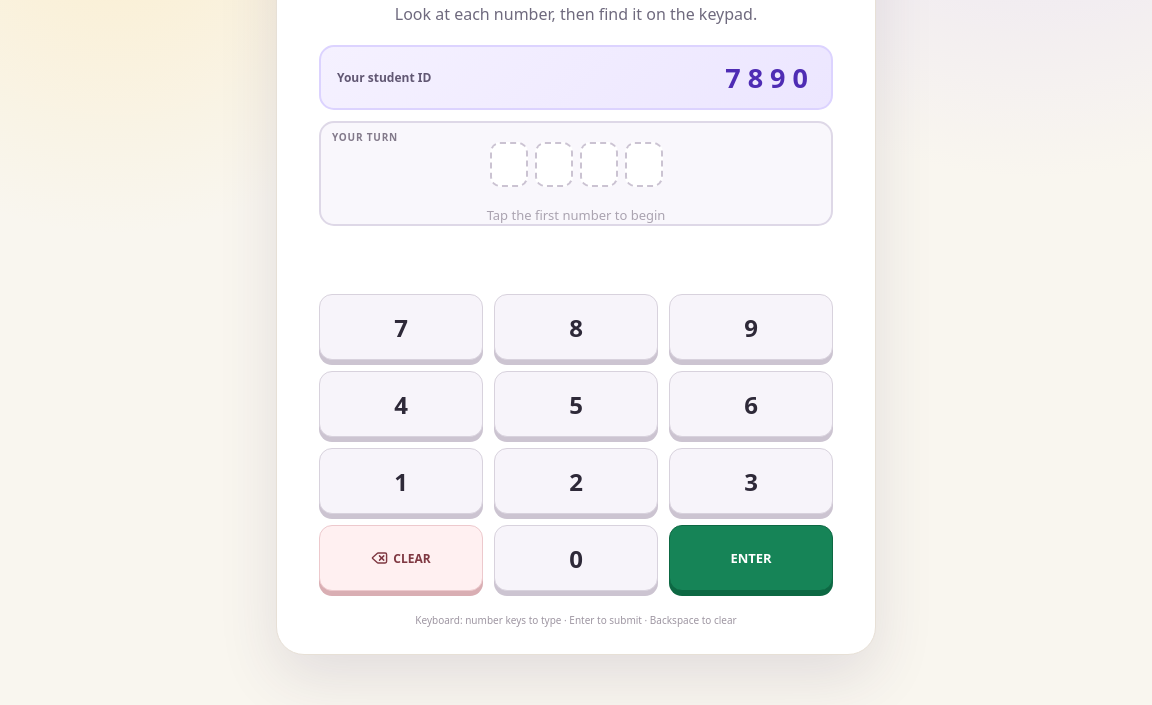
it: Student ID game mechanics › keeps an incorrect attempt visible for guided clearing without persisting it
(page scrolled)
Click the button named "Number 1".
click(401, 481)  # box left=319, top=448, right=483, bottom=514
(page scrolled)
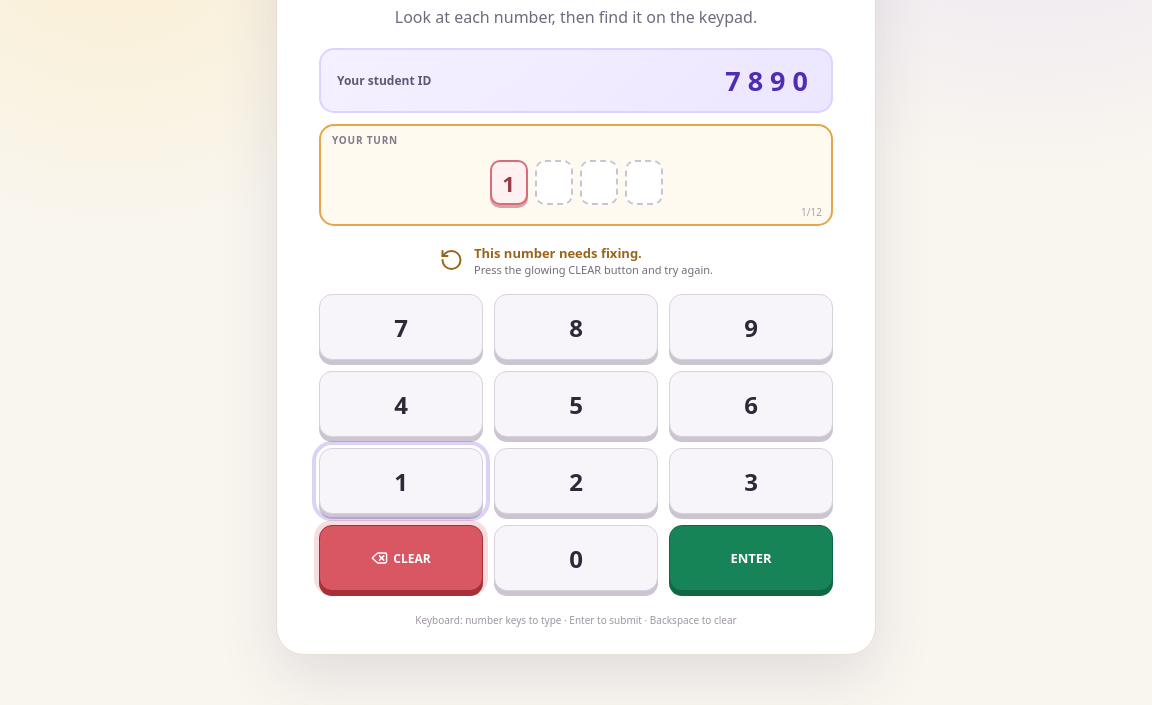
Click the button "2".
click(576, 481)  # box left=494, top=448, right=658, bottom=514
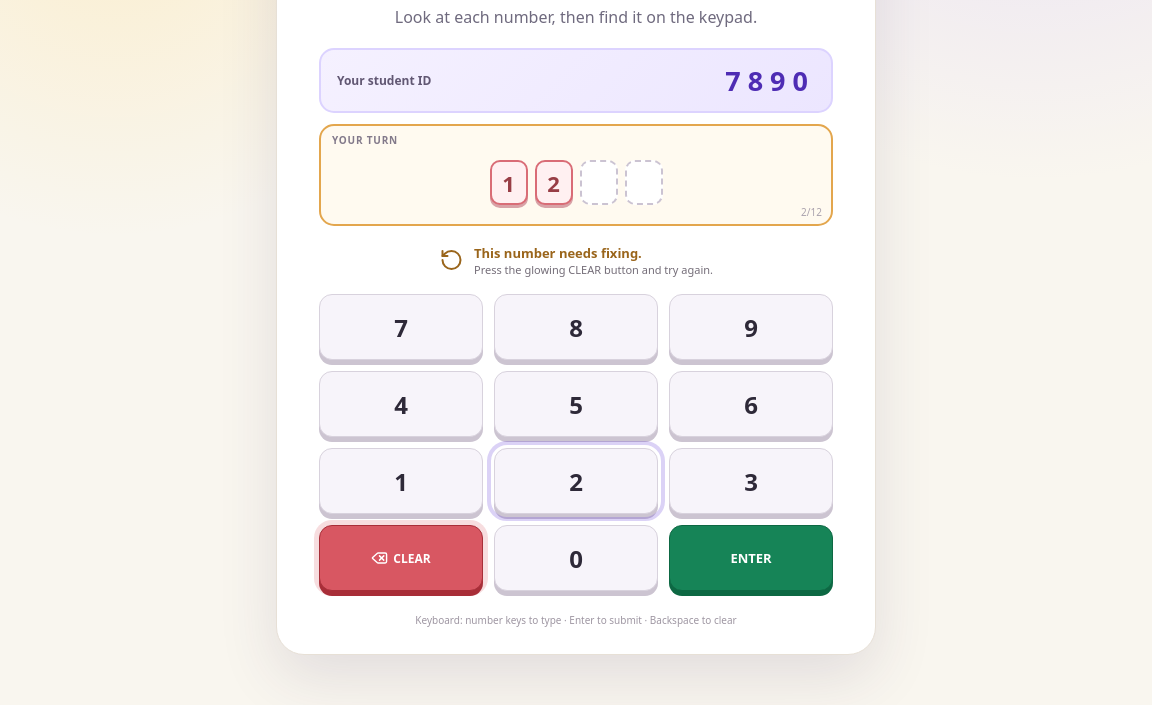
Click the button "3".
click(751, 481)  # box left=669, top=448, right=833, bottom=514
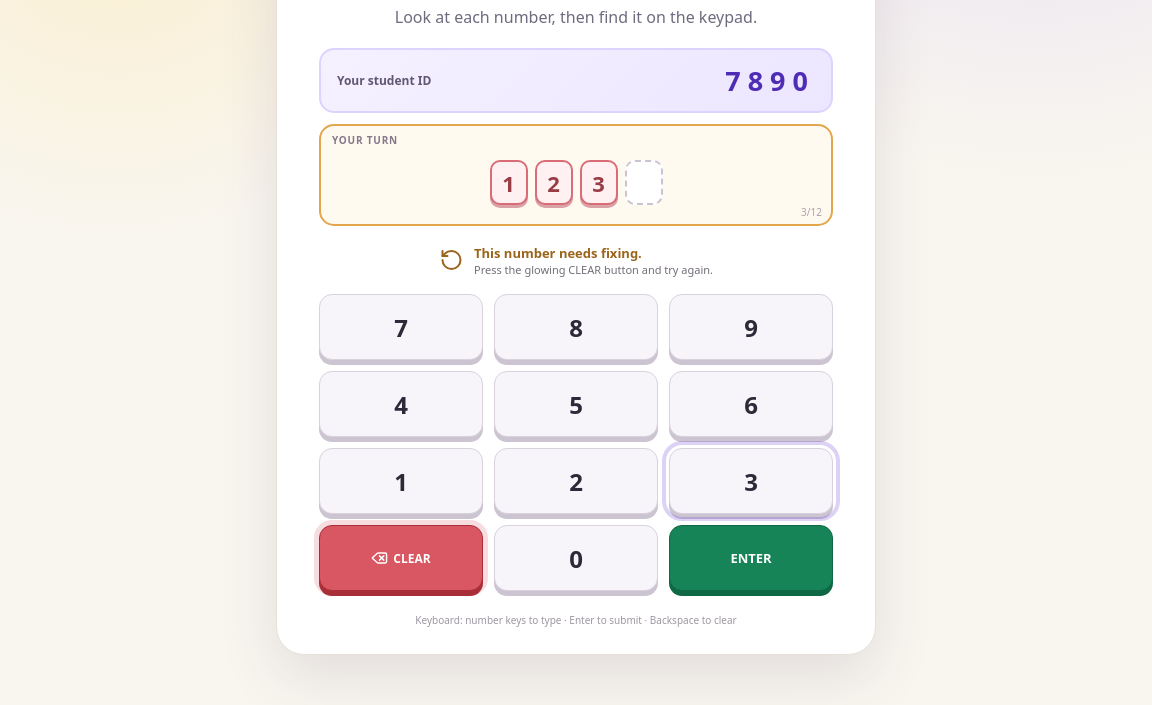
Click the button with aria-label "Submit student ID".
click(751, 558)  # box left=669, top=525, right=833, bottom=591
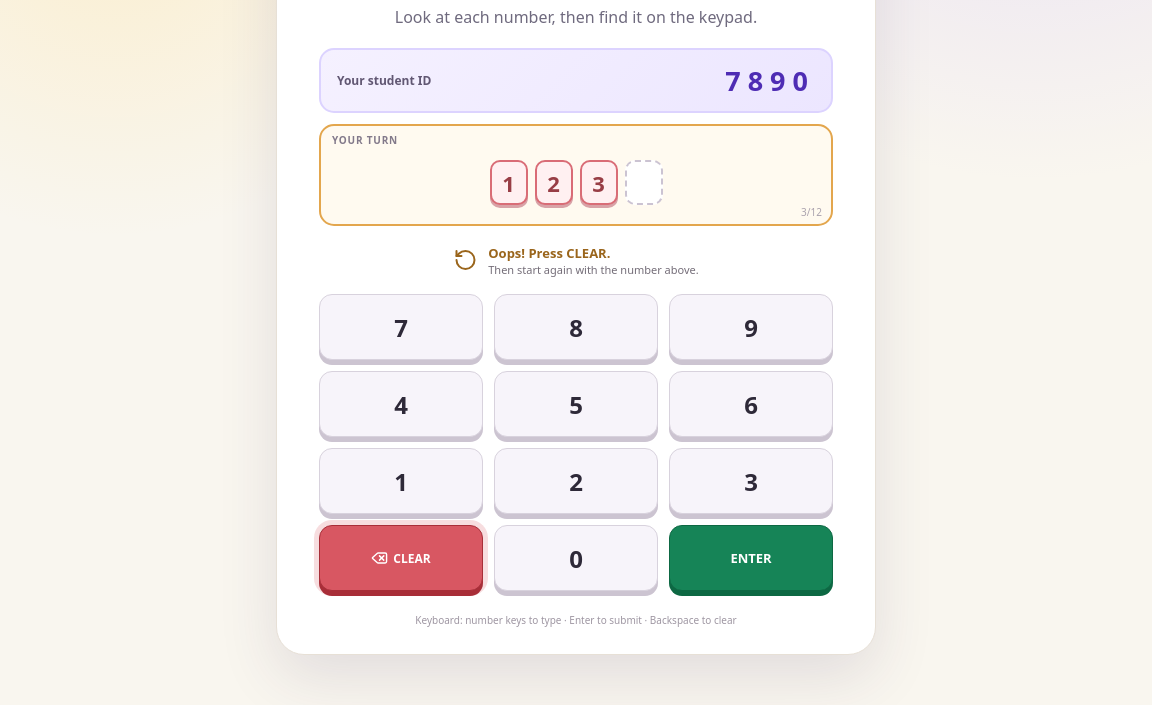
Expected: the text named "Student ID to practice: 7 8 9 0" is shown, left=718, top=62, right=815, bottom=99
Now the text named "Entered digit 1: 1, needs clearing" is shown, box left=490, top=160, right=528, bottom=205
Now the text "Oops! Press CLEAR." is shown, box left=488, top=244, right=610, bottom=262
